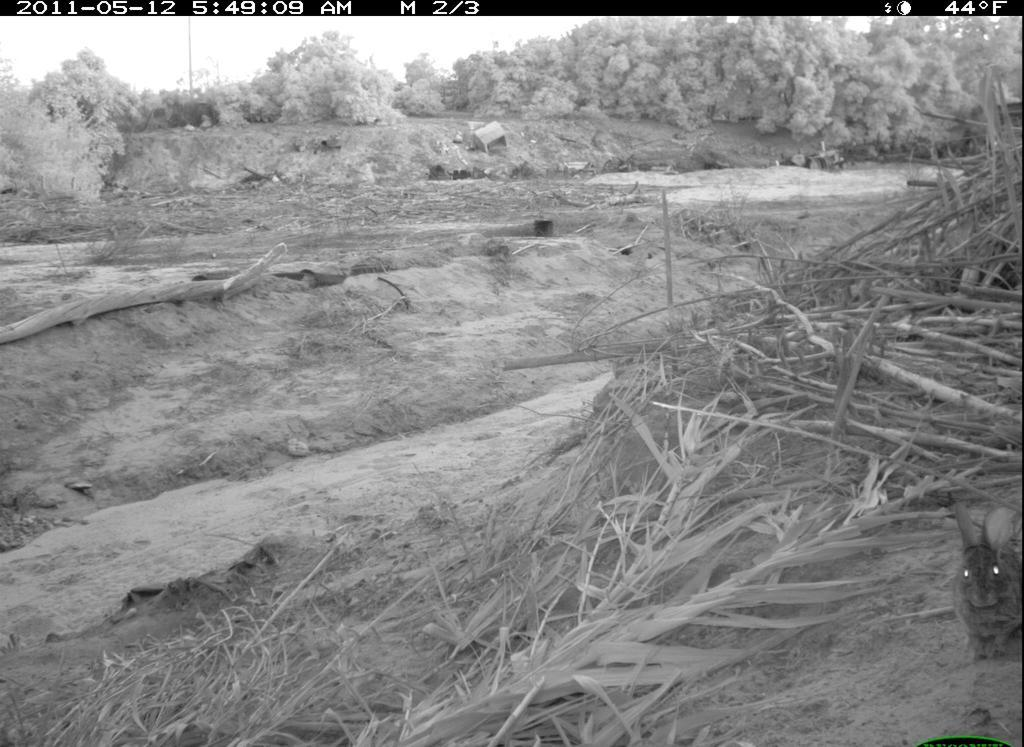rabbit: (944, 493, 1022, 661)
